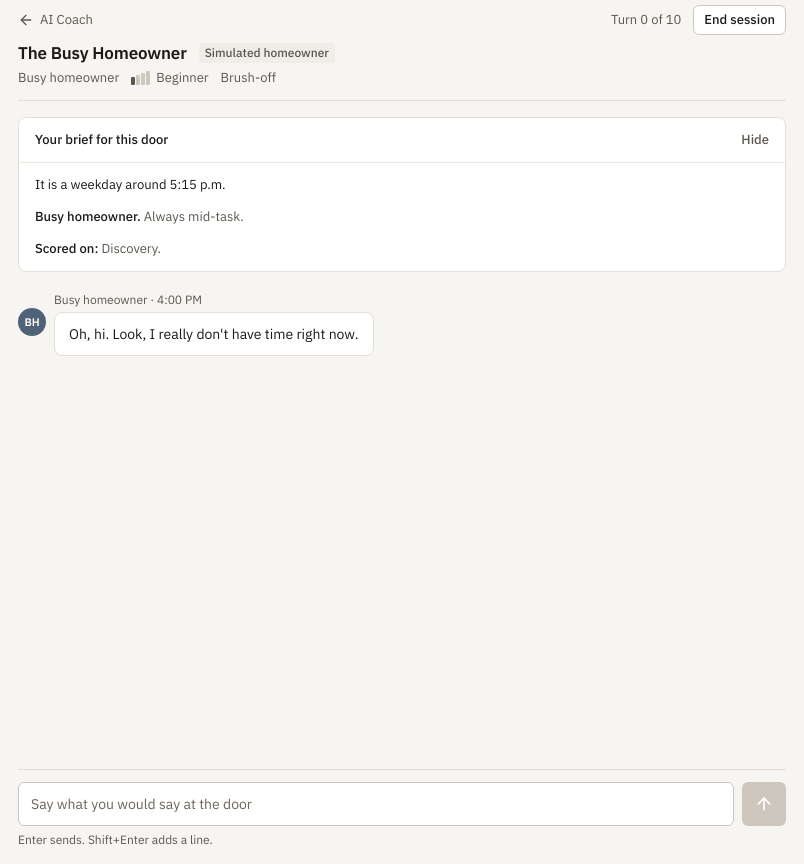
practice conversation › marks a message that was rejected as not sent and lets the learner edit it
In the text box named "Your response to the homeowner": (376,804) [18,782,734,826], type "I know you are short on time. Is there a better time today?"
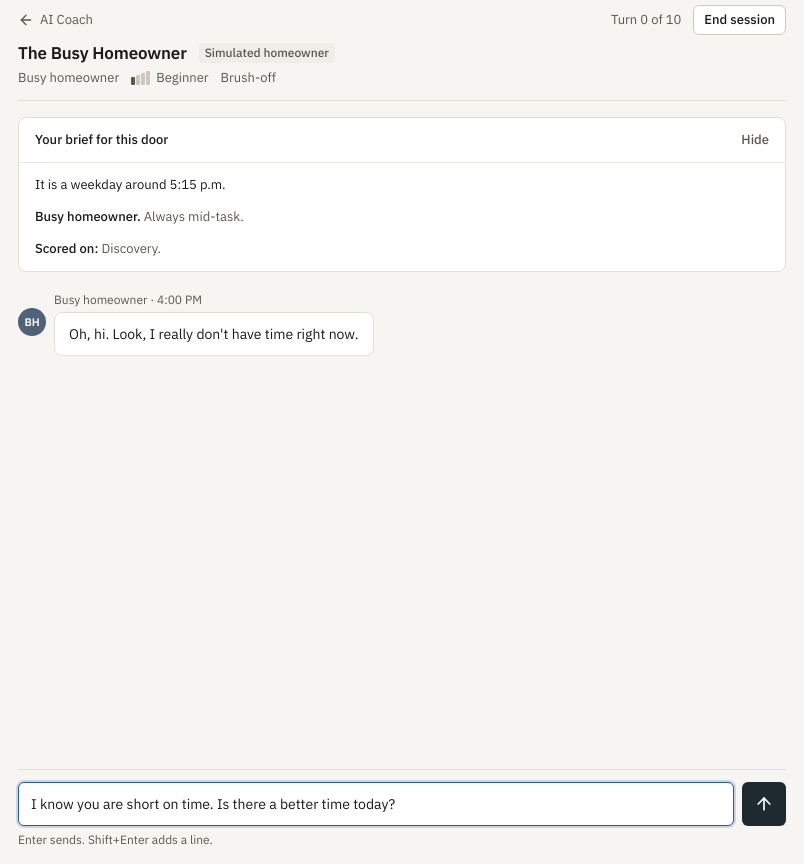
Click the button named "Send message": (764,804) [742,782,786,826]
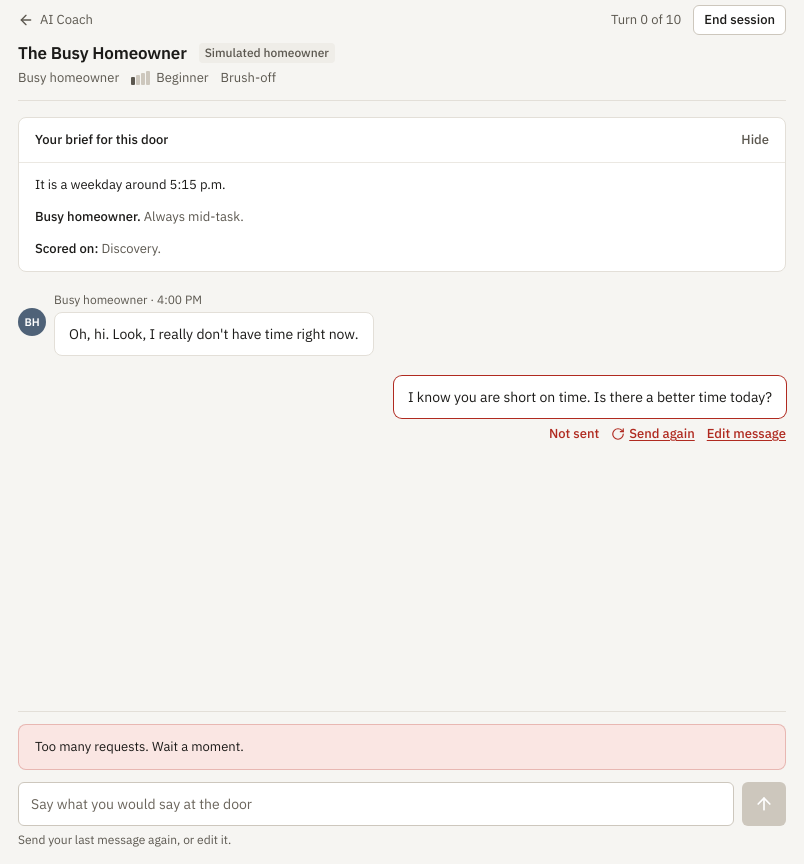
Check: the text "Not sent" is shown, box [549,424,599,444]
Check: the message shows "Too many requests", box [35,738,244,755]
Click the button "Edit message": (746,434) [707,424,786,444]
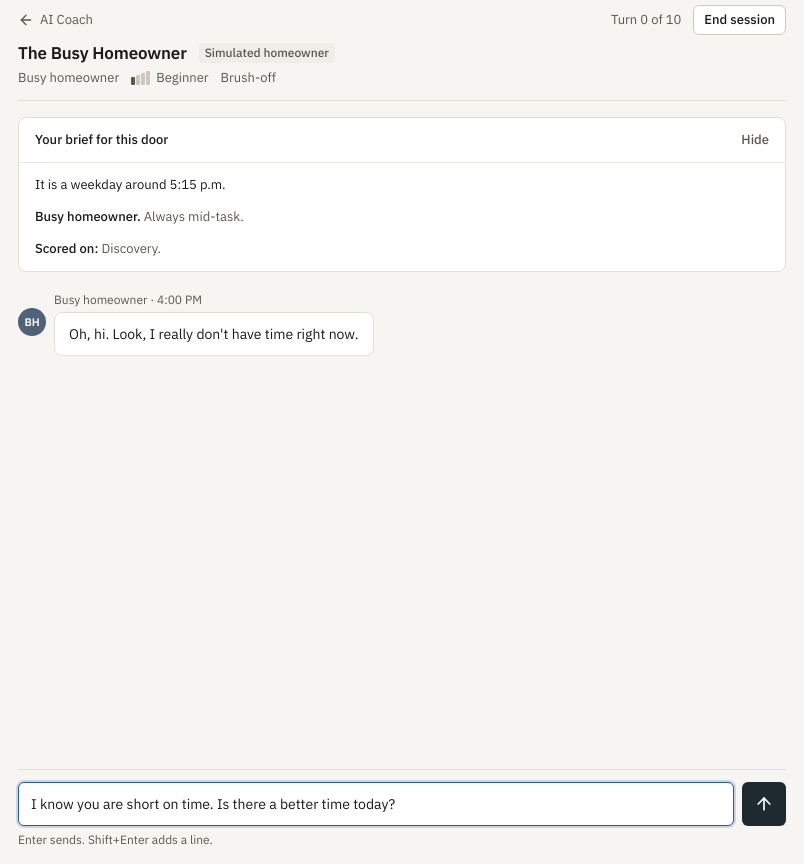
Check: the text "Not sent" is gone
